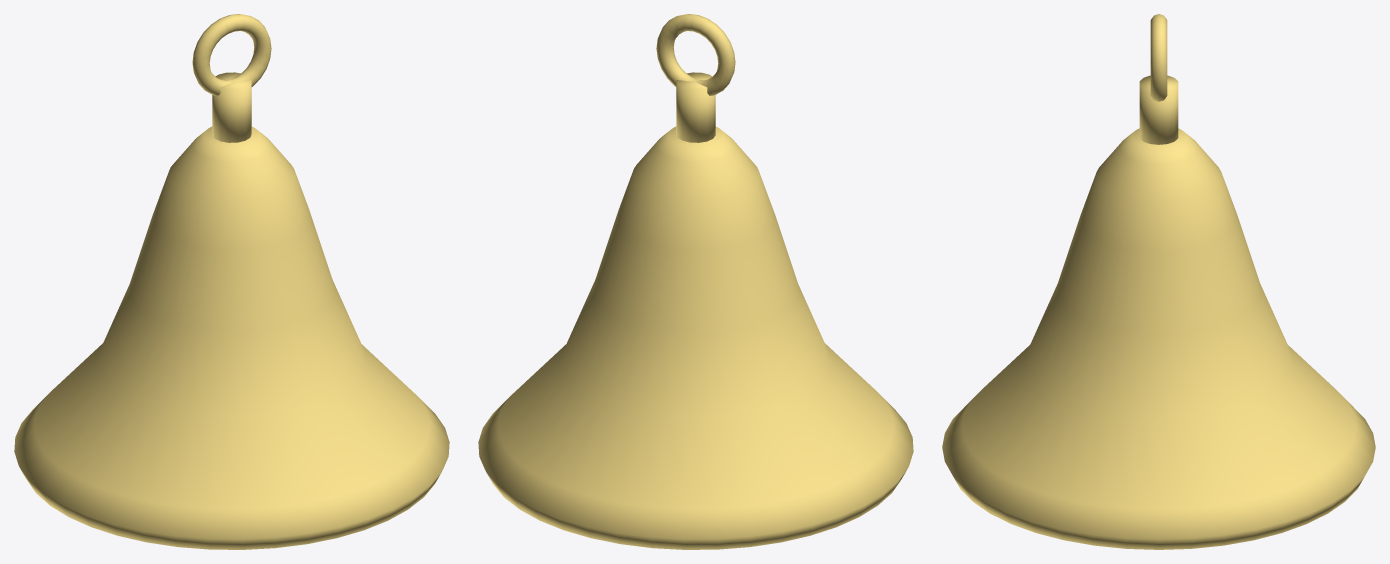
Rendered from bell.glb.
3 views of the same model, side by side, from view 1: azimuth 30°, elevation 25°; view 2: azimuth 150°, elevation 25°; view 3: azimuth 270°, elevation 25° (orthographic).
Visible parts, largest first — view 1: sino; view 2: sino; view 3: sino.
Boxes of the visible parts, left/top/right/bottom form: sino: left=14, top=14, right=449, bottom=549; sino: left=478, top=14, right=913, bottom=549; sino: left=942, top=14, right=1375, bottom=549.
Size of the model in its own units: 1.1 by 1.25 by 1.1.
